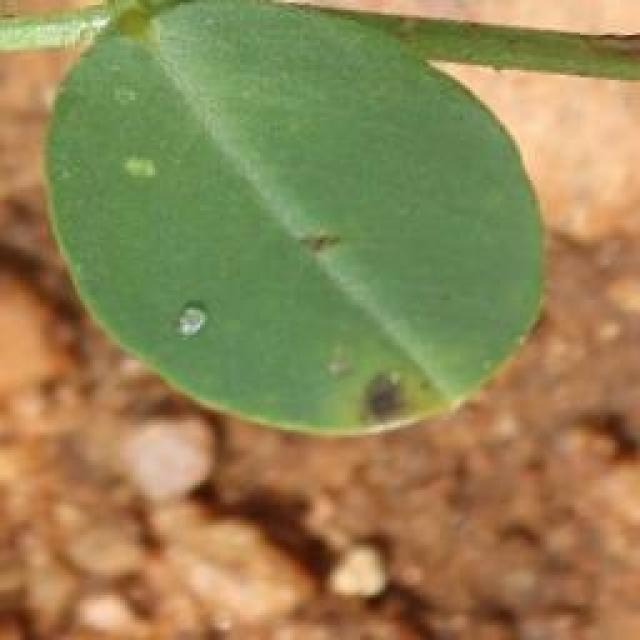Yellowish: (225, 181, 445, 448)
